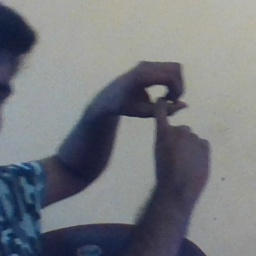Q: (107, 53, 216, 176)
